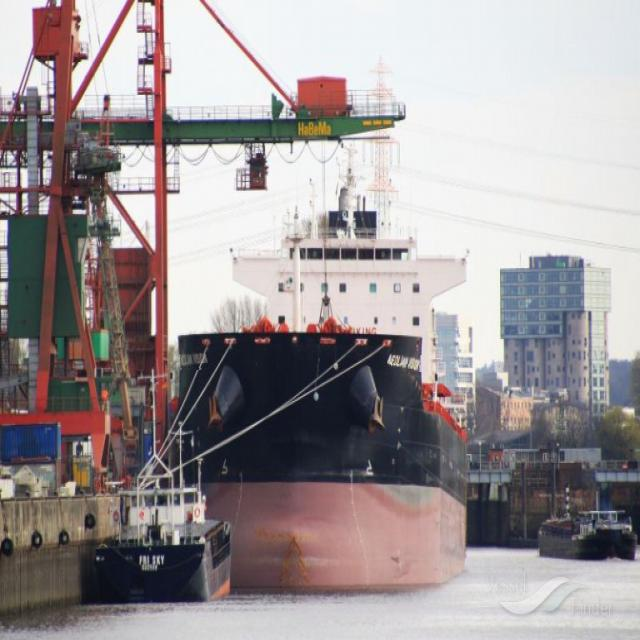OCR: (387, 346, 424, 372), (178, 347, 208, 370)
